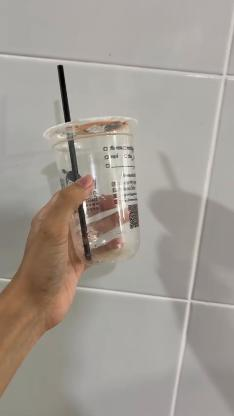Plastic Cup: (42, 116, 144, 266)
